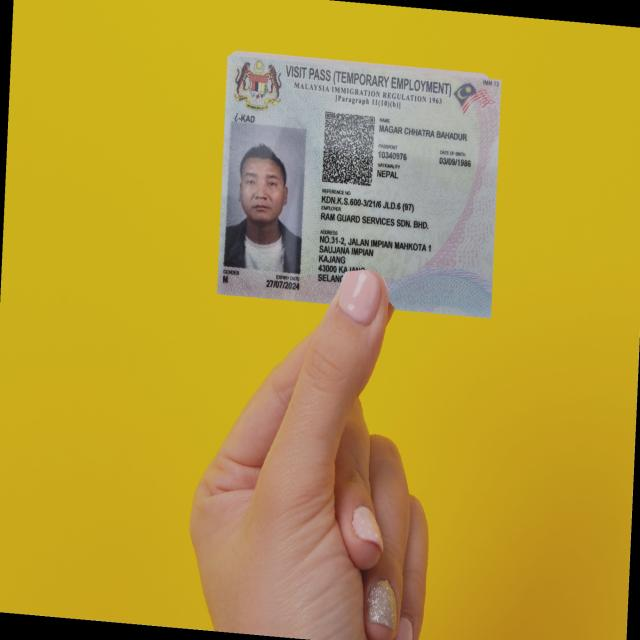ikad-temp: (217, 50, 501, 318)
